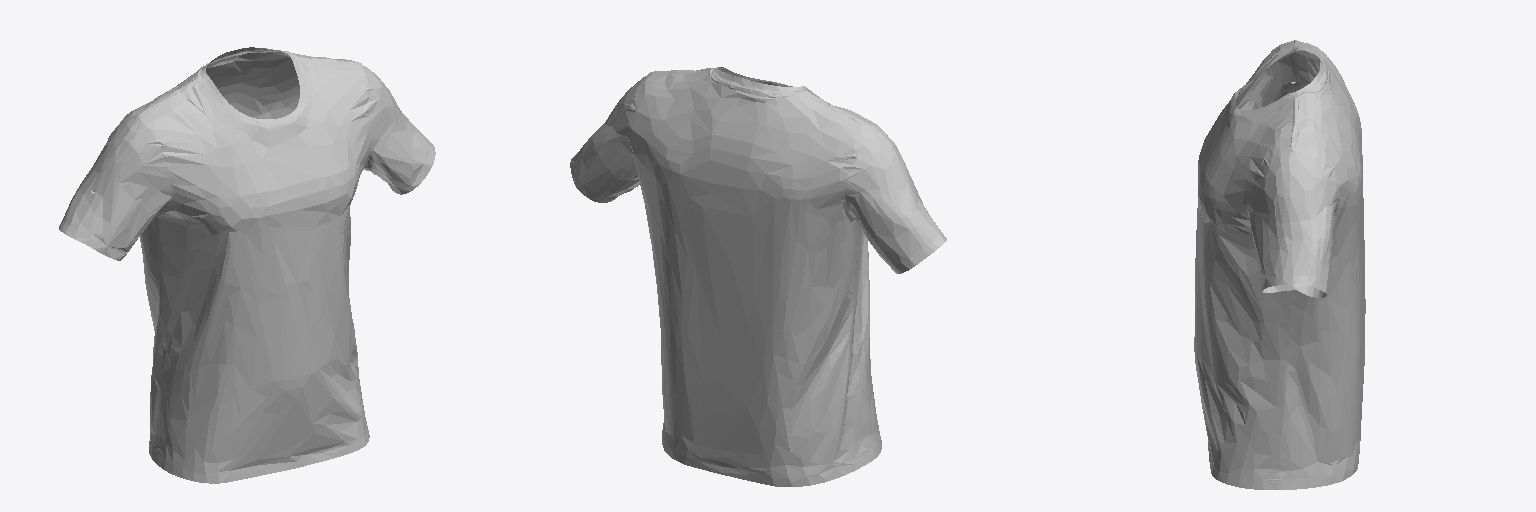
The model's file is tshirt_188_M_d95_p1_scaled.obj.
The picture shows the model from 3 angles: view 1: azimuth 30°, elevation 25°; view 2: azimuth 150°, elevation 25°; view 3: azimuth 270°, elevation 25°; orthographic projection.
Visible parts, largest first — view 1: tshirt_188_M1:Mesh1; view 2: tshirt_188_M1:Mesh1; view 3: tshirt_188_M1:Mesh1.
Part boxes in pixels (x1,y1,x2,y2): tshirt_188_M1:Mesh1: (59,47,435,483); tshirt_188_M1:Mesh1: (570,67,946,486); tshirt_188_M1:Mesh1: (1194,40,1365,489).
Bounding box in the file's own units: 2.13 × 2.11 × 0.8547.